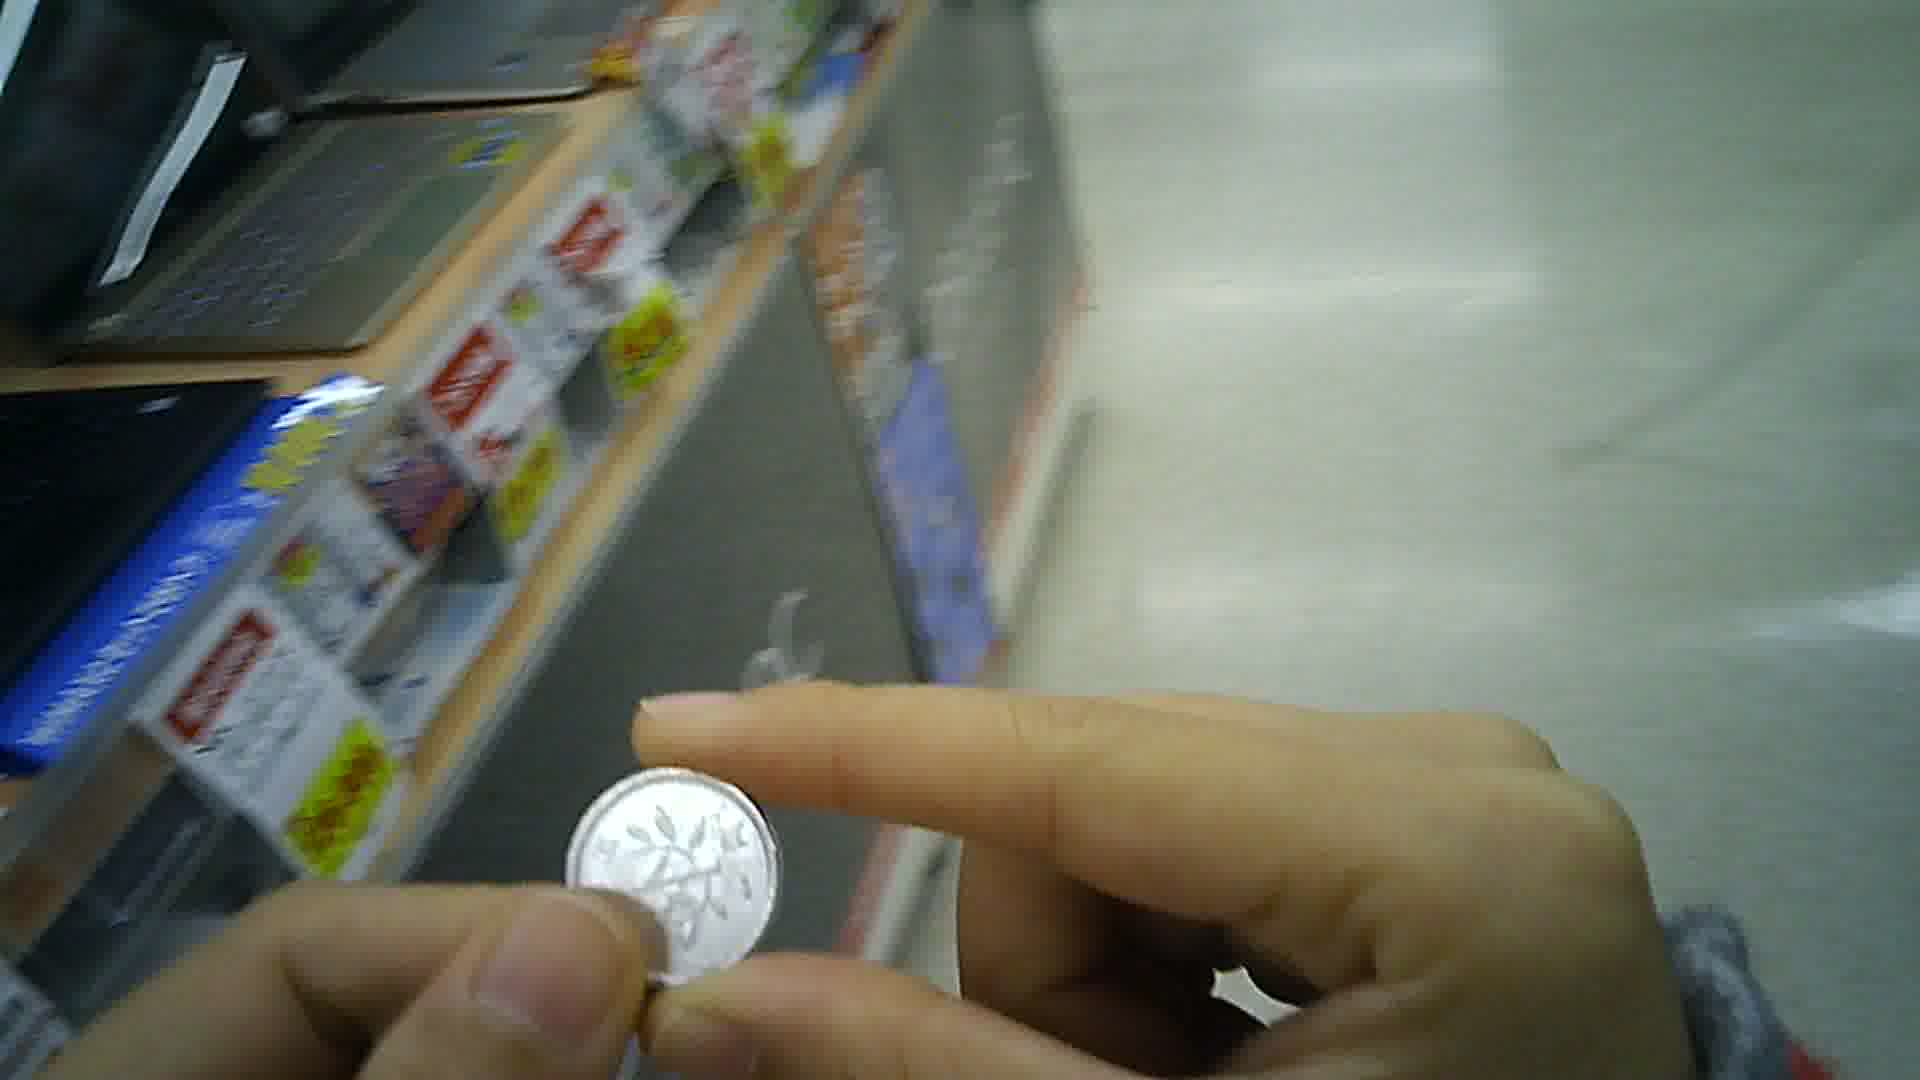1 Yen: (571, 761, 785, 996)
